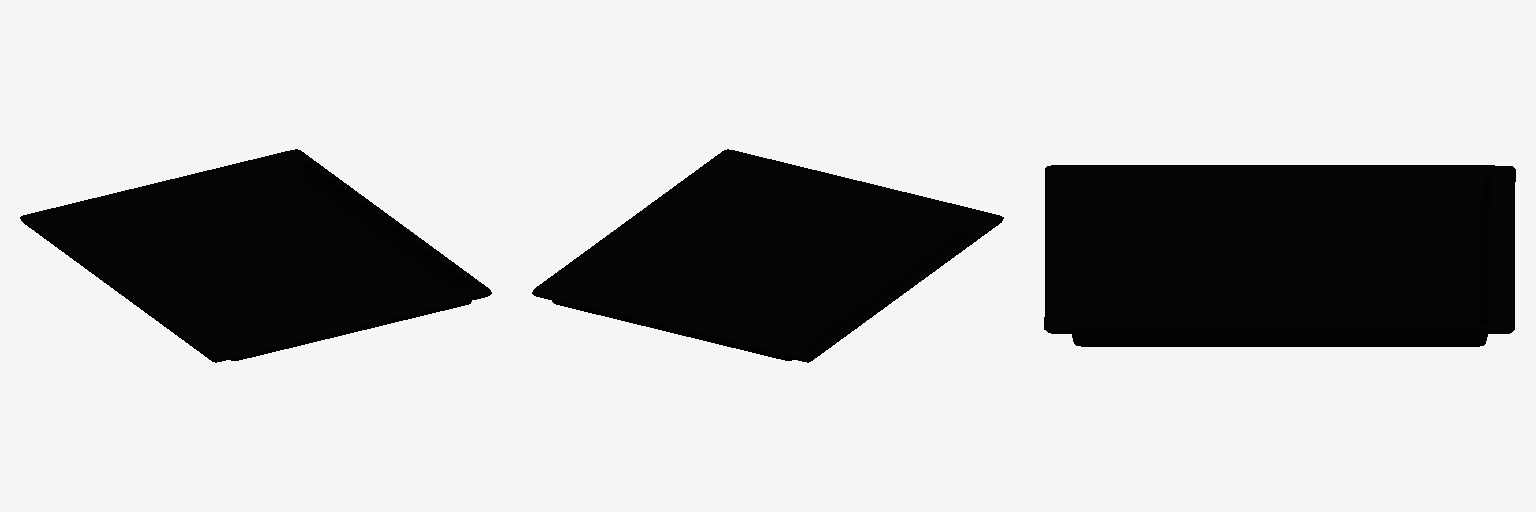
The robot description file, URDF, robot "tray":
<?xml version="1.0"?>

<robot name="tray">
  <link name="tray_frame">
    <visual>
      <origin rpy="0 0 1.57" xyz="0 0 0"/>
      <geometry>
        <mesh filename="package://iai_kitchen/meshes/racks/BoxyToolholder/tray.dae"/>
      </geometry>
    </visual>
  </link>
</robot>

--- What the picture shows (computed from the rendered views, not written in the file) ---
3 views of the same robot in one strip: view 1: azimuth 30°, elevation 25°; view 2: azimuth 150°, elevation 25°; view 3: azimuth 270°, elevation 25° (orthographic).
Model tray with 1 links and 0 joints (none), rooted at tray_frame, posed every joint at zero.
Visible links, largest first — view 1: tray_frame; view 2: tray_frame; view 3: tray_frame.
Link boxes in pixels (bbox=[...]): tray_frame: bbox=[20, 149, 491, 362]; tray_frame: bbox=[532, 149, 1003, 362]; tray_frame: bbox=[1044, 165, 1515, 346].
Bounding box of the posed robot: 0.3653 × 0.4453 × 0.024 m (x, y, z).
Meshes: 1 distinct files referenced, 1 mesh visuals loaded (1 Collada DAE).
